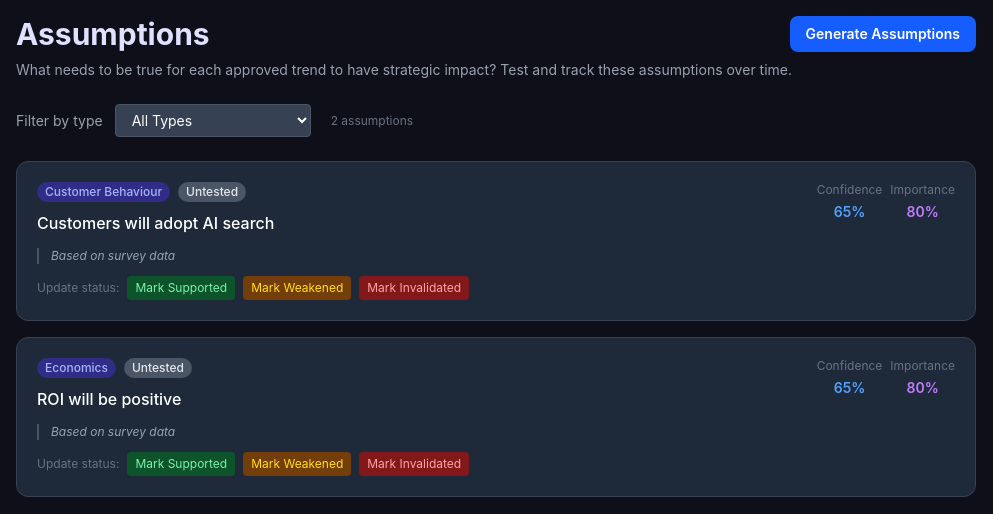
Test: AssumptionsScreen › user can filter by assumption type
The image size is (993, 514).
Step 1. Select "Economics" in the dropdown labelled "Filter by type" → (213, 120), box [115,104,311,137]
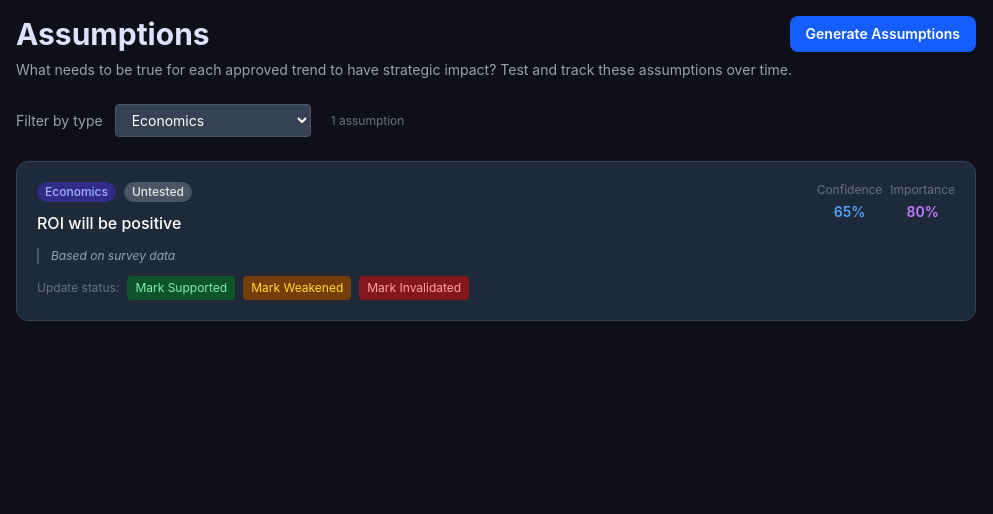
Expected: the text "ROI will be positive" is shown, [37,213,181,233]
Expected: the text "Customers will adopt AI search" is gone
